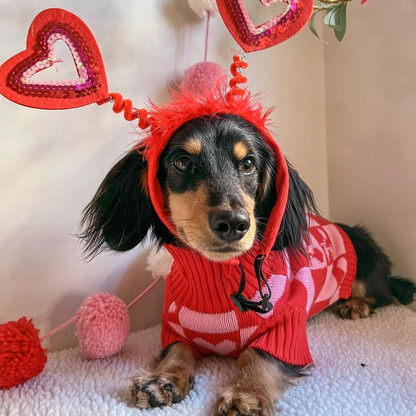dachshund: (78, 124, 400, 393)
